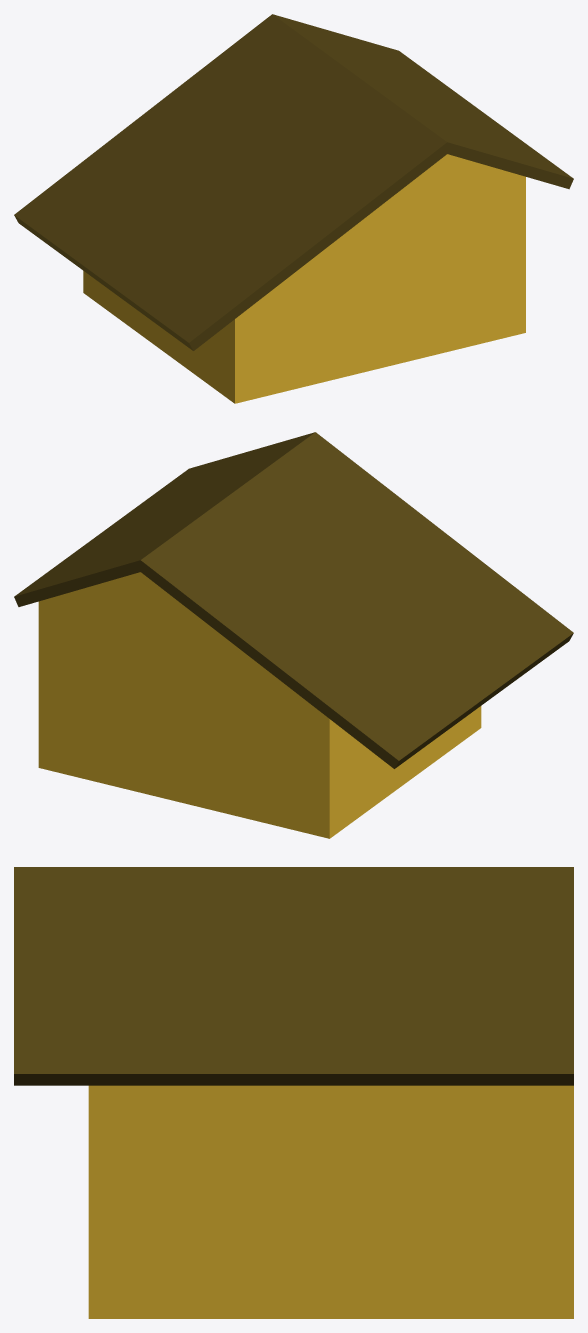
Rendered from result.dae.
3 views of the same model, one above another, from view 1: azimuth 30°, elevation 25°; view 2: azimuth 150°, elevation 25°; view 3: azimuth 270°, elevation 25° (orthographic). The views are drawn at different scales.
Visible parts, largest first — view 1: 15327ab6-83a4-4366-a18a-954eec8d606b__undefined (×5), c85fba14-effc-4c9f-bcb2-ae5f7bf6d1ab__undefined (×2); view 2: 15327ab6-83a4-4366-a18a-954eec8d606b__undefined (×5), c85fba14-effc-4c9f-bcb2-ae5f7bf6d1ab__undefined (×2); view 3: 15327ab6-83a4-4366-a18a-954eec8d606b__undefined (×2), c85fba14-effc-4c9f-bcb2-ae5f7bf6d1ab__undefined.
Part boxes in pixels (<box>): 15327ab6-83a4-4366-a18a-954eec8d606b__undefined (×5): <box>14,14,573,350</box>; c85fba14-effc-4c9f-bcb2-ae5f7bf6d1ab__undefined (×2): <box>83,154,525,403</box>; 15327ab6-83a4-4366-a18a-954eec8d606b__undefined (×5): <box>14,432,573,768</box>; c85fba14-effc-4c9f-bcb2-ae5f7bf6d1ab__undefined (×2): <box>38,572,481,838</box>; 15327ab6-83a4-4366-a18a-954eec8d606b__undefined (×2): <box>14,867,573,1085</box>; c85fba14-effc-4c9f-bcb2-ae5f7bf6d1ab__undefined: <box>88,1085,573,1318</box>.
Size of the model in its own units: 953 by 550 by 750.
